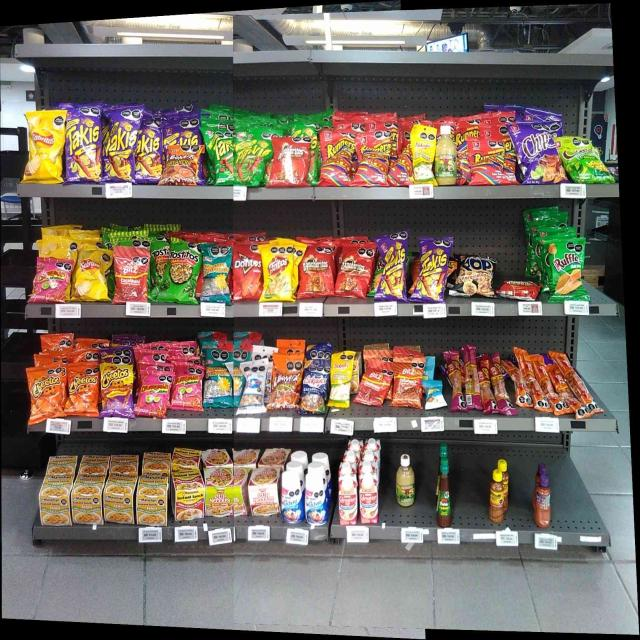bitzAlmendras: (425, 382, 444, 406)
bitzEnchilado90: (114, 248, 146, 301), (394, 351, 422, 406), (359, 371, 386, 403)
bitzEnchilado95: (526, 353, 539, 411), (574, 366, 588, 414), (542, 358, 554, 413), (511, 358, 524, 408), (557, 368, 571, 414)
bitzHabanero: (464, 346, 478, 409), (448, 351, 462, 411), (481, 356, 493, 412), (495, 356, 506, 415)
bokadosCacahuates: (303, 362, 326, 412)
botaneraChilito: (490, 469, 503, 521)
cheetosFlaminHot: (101, 355, 132, 417)
cheetosOriginal: (67, 362, 98, 415), (29, 368, 61, 417)
chipsFuego: (518, 123, 557, 183)
chipsPapatinas: (564, 136, 604, 180)
churrumais: (172, 361, 202, 409), (36, 256, 67, 300), (138, 370, 168, 415)
delPrimoSalsa: (436, 125, 457, 184), (395, 453, 415, 506)
doritosNacho: (234, 243, 260, 299)
fritosLimon: (262, 245, 292, 299)
leoCacahuates: (241, 361, 264, 412)
leoMix: (272, 354, 299, 408), (164, 145, 195, 185)
maruchanRes: (138, 475, 168, 525), (105, 474, 135, 524), (171, 472, 203, 517), (73, 475, 103, 523), (40, 476, 69, 524)
nestleCarnation: (338, 476, 357, 524), (360, 474, 378, 522)
nestleLechera: (305, 474, 326, 523), (282, 472, 302, 522)
nissinCamaron: (206, 471, 234, 514)
nissinRes: (249, 468, 279, 514)
popKarameladas: (457, 253, 494, 296)
rancheritos: (272, 137, 306, 185), (301, 246, 333, 296), (339, 245, 369, 298), (502, 279, 538, 300)
rufflesQueso: (549, 242, 583, 299)
runners: (320, 130, 351, 188), (356, 131, 388, 186), (469, 138, 503, 183)
sabritasOriginal: (28, 110, 62, 182), (74, 248, 110, 301)
salsaBufalo: (437, 458, 450, 525)
semillasCalabaza: (413, 127, 432, 182), (331, 354, 350, 406)
semillasGirasol: (206, 346, 232, 405), (204, 248, 229, 304)
tajinDulce: (535, 476, 550, 527)
takisFuego: (65, 108, 100, 182), (103, 108, 135, 182), (418, 237, 447, 302), (379, 234, 406, 300), (137, 116, 160, 182)
takisOriginal: (237, 126, 267, 184), (208, 124, 235, 184)
tostitos: (168, 242, 198, 302), (150, 241, 167, 298)
